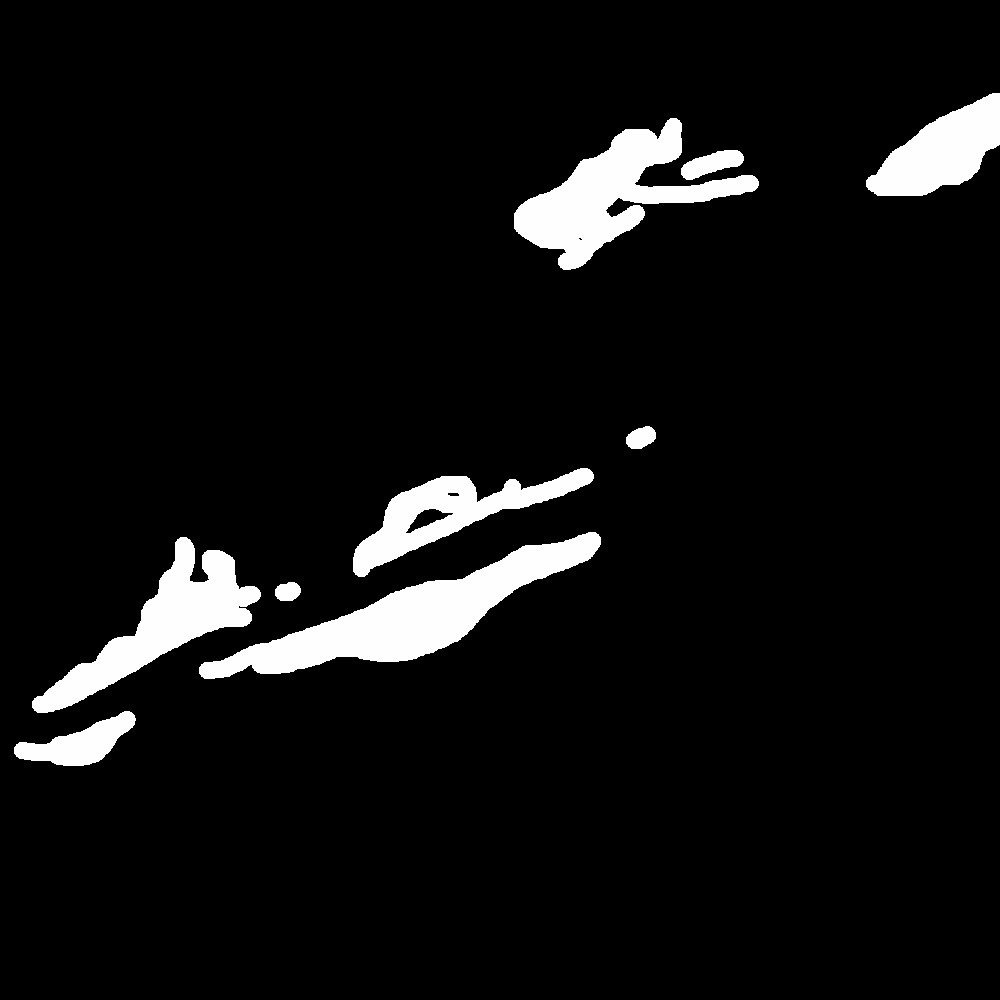illegal: (353, 431, 652, 575), (243, 540, 553, 671), (34, 529, 239, 706), (519, 127, 770, 269), (868, 92, 1000, 197), (51, 713, 133, 768), (928, 6, 1000, 55), (15, 739, 40, 754)
